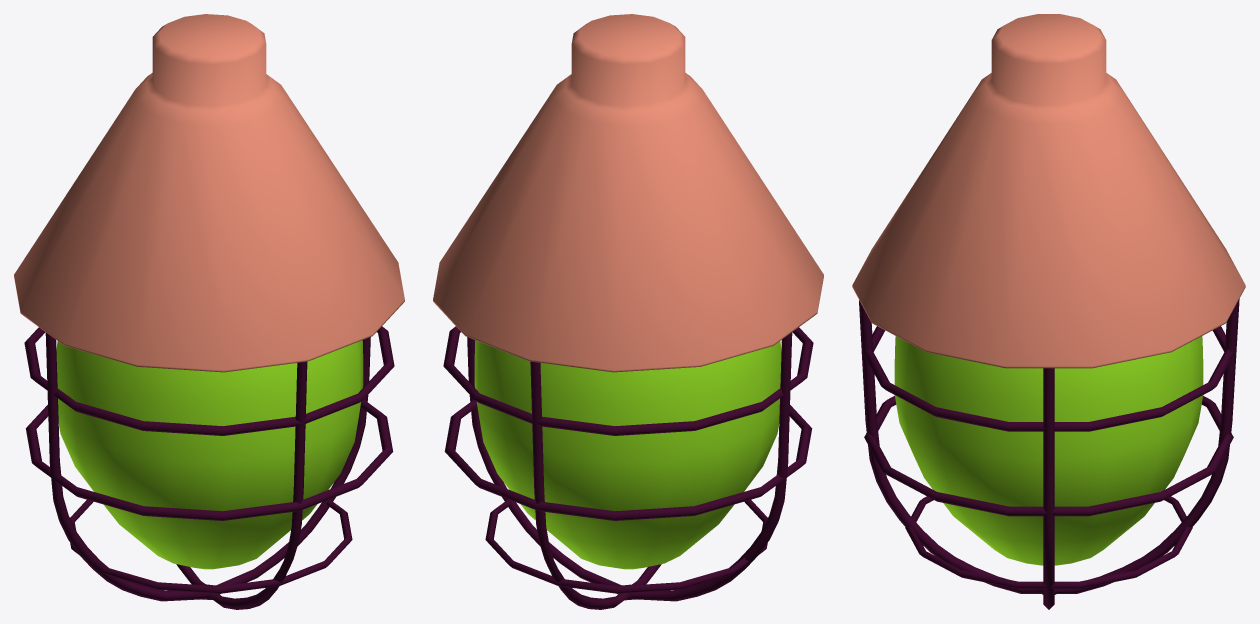
The model's file is Lamp.fbx.
3 views of the same model, side by side, from view 1: azimuth 30°, elevation 25°; view 2: azimuth 150°, elevation 25°; view 3: azimuth 270°, elevation 25° (orthographic).
Parts seen in each view (by area): view 1: Cylinder.006, Cylinder.005; view 2: Cylinder.006, Cylinder.005; view 3: Cylinder.006, Cylinder.005.
Boxes of the visible parts, x1,y1,x2,y2 form: Cylinder.006: [14, 14, 404, 609]; Cylinder.005: [56, 340, 363, 569]; Cylinder.006: [433, 14, 823, 609]; Cylinder.005: [474, 340, 781, 569]; Cylinder.006: [852, 14, 1245, 609]; Cylinder.005: [894, 336, 1203, 565].
Size of the model in its own units: 2.39 by 3.85 by 2.45.
